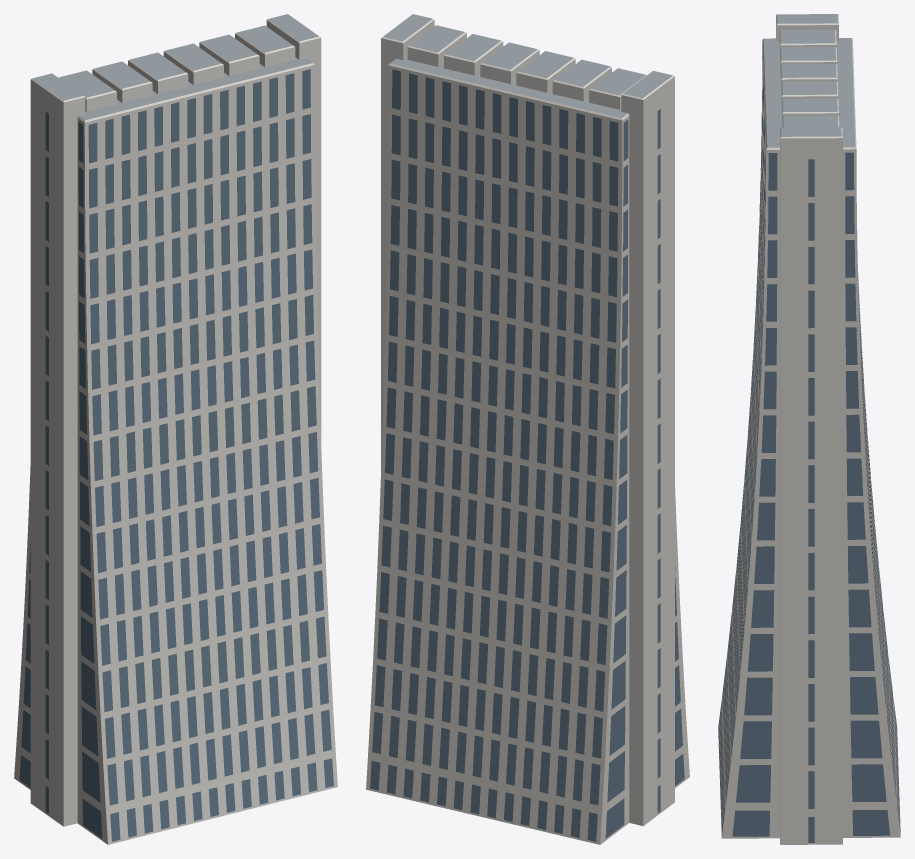
File: detail.glb
The picture shows the model from 3 angles, left to right: view 1: azimuth 30°, elevation 25°; view 2: azimuth 150°, elevation 25°; view 3: azimuth 270°, elevation 25°; orthographic projection. The views are drawn at different scales.
Parts seen in each view (by area): view 1: chase-tower; view 2: chase-tower; view 3: chase-tower.
Boxes of the visible parts, bbox=[...] form: chase-tower: bbox=[14, 14, 337, 844]; chase-tower: bbox=[366, 14, 689, 844]; chase-tower: bbox=[718, 14, 900, 844].
Size of the model in its own units: 97.28 by 259 by 60.6.
